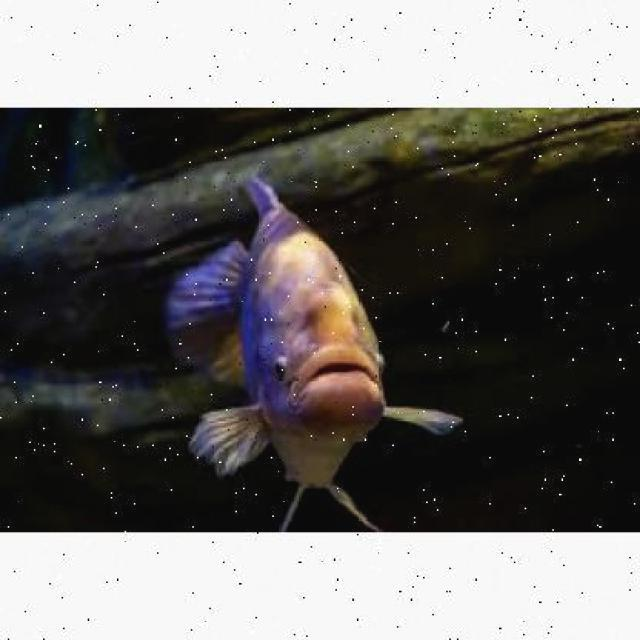gurame: (161, 173, 457, 529)
